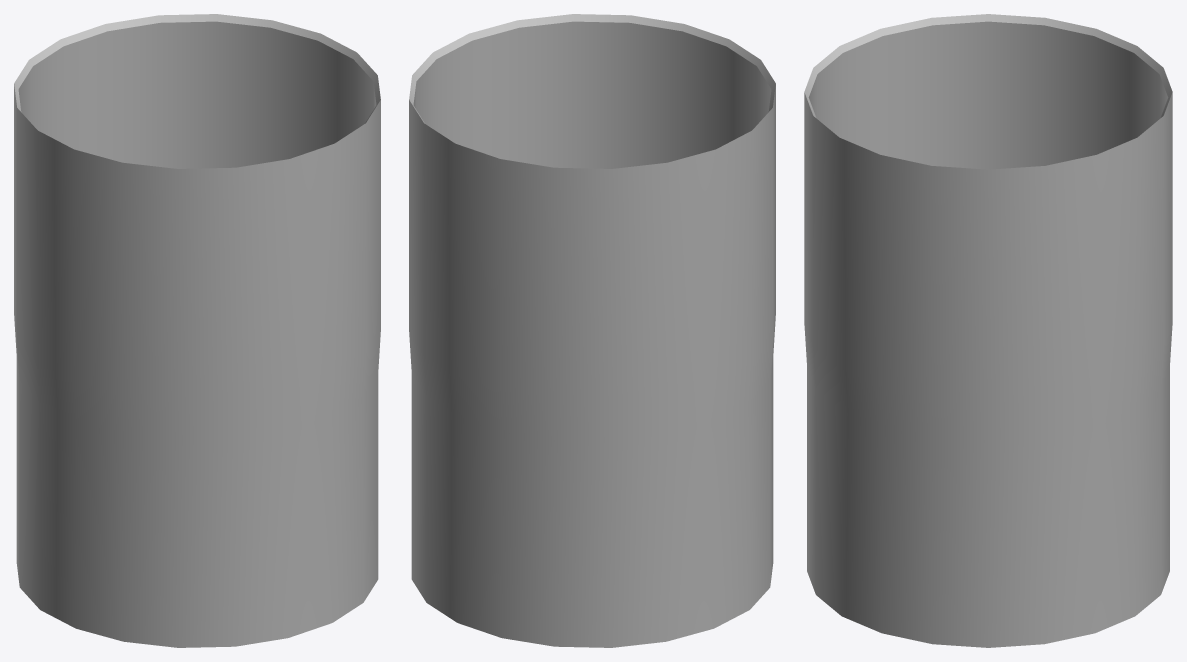
The picture shows the model from 3 angles, left to right: view 1: azimuth 30°, elevation 25°; view 2: azimuth 150°, elevation 25°; view 3: azimuth 270°, elevation 25°; orthographic projection.
Parts seen in each view (by area): view 1: Object_2; view 2: Object_2; view 3: Object_2.
Part boxes in pixels (<box>): Object_2: <box>14,14,380,647</box>; Object_2: <box>409,14,775,647</box>; Object_2: <box>804,14,1172,647</box>.
Bounding box in the file's own units: 10.77 × 15.47 × 10.77.
Materials: 1 (1 with a texture image).
